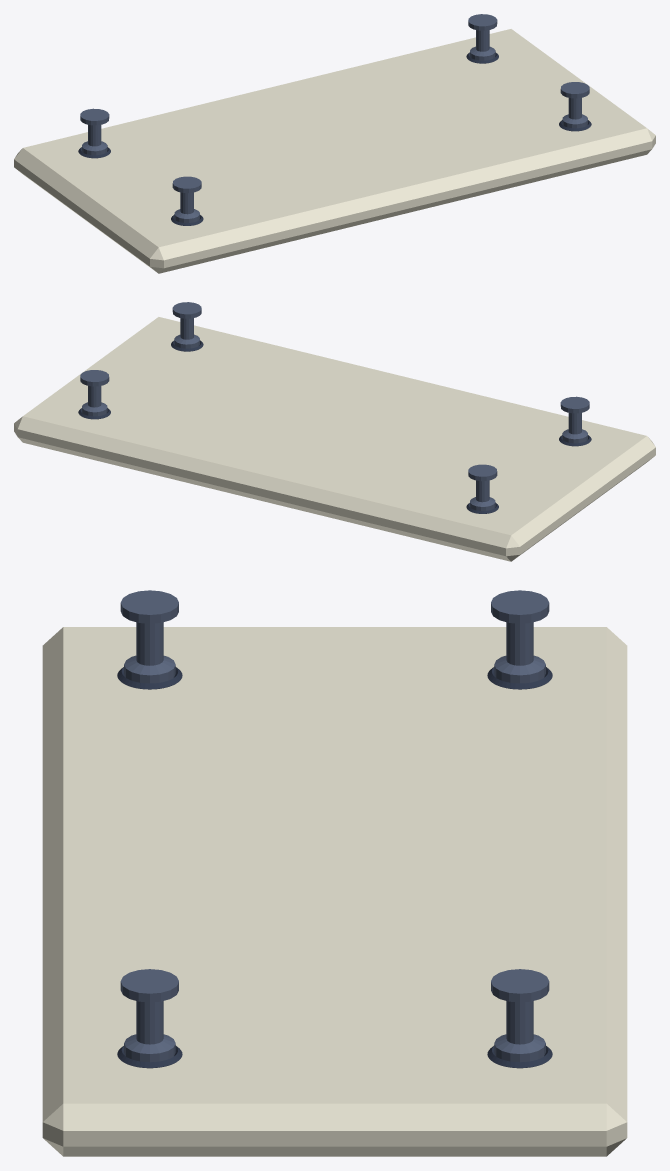
File: bw_ceiling_panel.glb
The picture shows the model from 3 angles, top to bottom: view 1: azimuth 30°, elevation 25°; view 2: azimuth 150°, elevation 25°; view 3: azimuth 270°, elevation 25°; orthographic projection. The views are drawn at different scales.
Visible parts, largest first — view 1: housing, suspension, grommet; view 2: housing, suspension, grommet; view 3: housing, suspension, grommet.
Part boxes in pixels (<box>): housing: <box>14,29,655,273</box>; suspension: <box>80,14,589,222</box>; grommet: <box>78,52,591,225</box>; housing: <box>14,317,655,561</box>; suspension: <box>80,302,589,510</box>; grommet: <box>78,340,591,513</box>; housing: <box>42,627,627,1156</box>; suspension: <box>120,590,549,1062</box>; grommet: <box>117,667,552,1068</box>.
Size of the model in its own units: 2.4 by 0.3 by 1.2.
